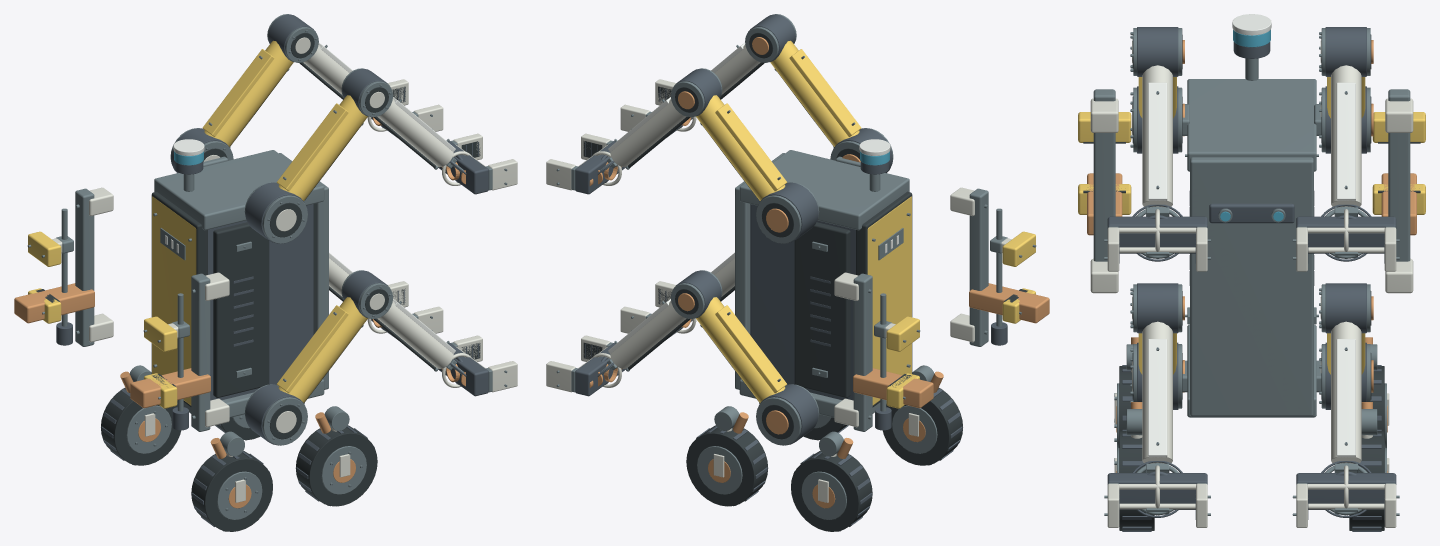
File: six-axis-carrier-candidate.glb
3 views of the same model, side by side, from view 1: azimuth 30°, elevation 25°; view 2: azimuth 150°, elevation 25°; view 3: azimuth 270°, elevation 25° (orthographic). The views are drawn at different scales.
Visible parts, largest first — view 1: carrier__Rubber, carrier__Steel, carrier__Clamps, payload_cradle__Steel, rear_armour, limb_fr_hip__Shell, limb_fl_hip__Shell, limb_rl_hip__Shell, payload_cradle__Copper, wheel_tyre.003, wheel_tyre.002, wheel_tyre (+28 smaller); view 2: carrier__Rubber, carrier__Steel, carrier__Clamps, payload_cradle__Steel, rear_armour, limb_fl_hip__Shell, limb_fr_hip__Shell, limb_rr_hip__Shell, payload_cradle__Copper, wheel_tyre.001, wheel_tyre, wheel_tyre.002 (+24 smaller); view 3: carrier__Steel, payload_cradle__Steel, payload_cradle__PaleFrame, lower_link_service_cover, lower_link_service_cover.001, lower_link_service_cover.003, lower_link_service_cover.002, limb_fl_wrist_roll__Clamps, limb_fr_wrist_roll__Clamps, limb_rl_wrist_roll__Clamps, limb_rr_wrist_roll__Clamps, limb_fr_knee__PaleFrame (+52 smaller).
Part boxes in pixels (x1,y1,x2,y2): carrier__Rubber: (151,191,269,407); carrier__Steel: (153,150,328,417); carrier__Clamps: (208,204,313,400); payload_cradle__Steel: (61,188,210,431); rear_armour: (152,196,196,405); limb_fr_hip__Shell: (202,40,293,146); limb_fl_hip__Shell: (276,95,367,200); limb_rl_hip__Shell: (277,297,367,402); payload_cradle__Copper: (14,283,210,408); wheel_tyre.003: (295,425,377,506); wheel_tyre.002: (191,451,272,531); wheel_tyre: (101,388,181,465); carrier__Rubber: (794,191,912,407); carrier__Steel: (735,150,910,417); carrier__Clamps: (750,204,855,400); payload_cradle__Steel: (853,188,1002,431); rear_armour: (867,196,911,405); limb_fl_hip__Shell: (770,40,861,146); limb_fr_hip__Shell: (696,95,787,200); limb_rr_hip__Shell: (696,297,786,402); payload_cradle__Copper: (853,283,1049,408); wheel_tyre.001: (686,425,768,506); wheel_tyre: (791,451,872,531); wheel_tyre.002: (882,388,962,465); carrier__Steel: (1182,79,1321,417); payload_cradle__Steel: (1093,89,1410,261); payload_cradle__PaleFrame: (1090,98,1413,293); lower_link_service_cover: (1148,82,1167,200); lower_link_service_cover.001: (1336,82,1355,200); lower_link_service_cover.003: (1336,339,1355,457); lower_link_service_cover.002: (1148,339,1167,457); limb_fl_wrist_roll__Clamps: (1107,215,1207,253); limb_fr_wrist_roll__Clamps: (1296,215,1396,253); limb_rl_wrist_roll__Clamps: (1107,471,1207,509); limb_rr_wrist_roll__Clamps: (1296,471,1396,509); limb_fr_knee__PaleFrame: (1320,41,1361,207).
Size of the model in its own units: 1.91 by 1.95 by 1.18.
